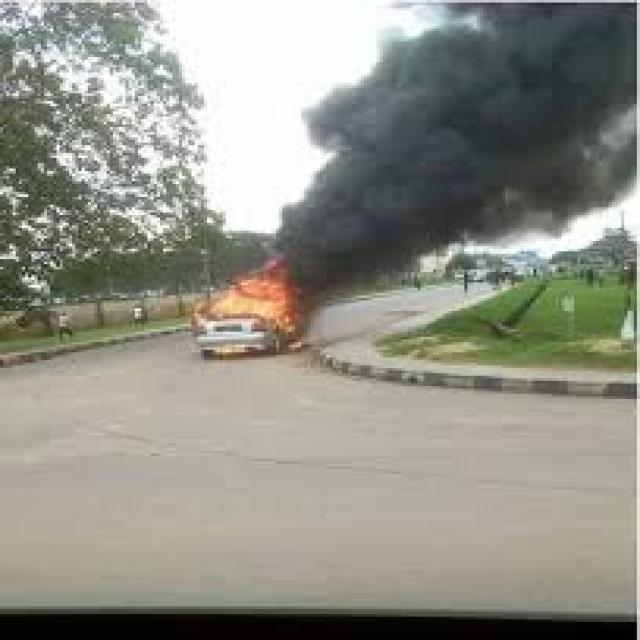Fire: (207, 268, 298, 334)
Smoke: (258, 3, 637, 313)
